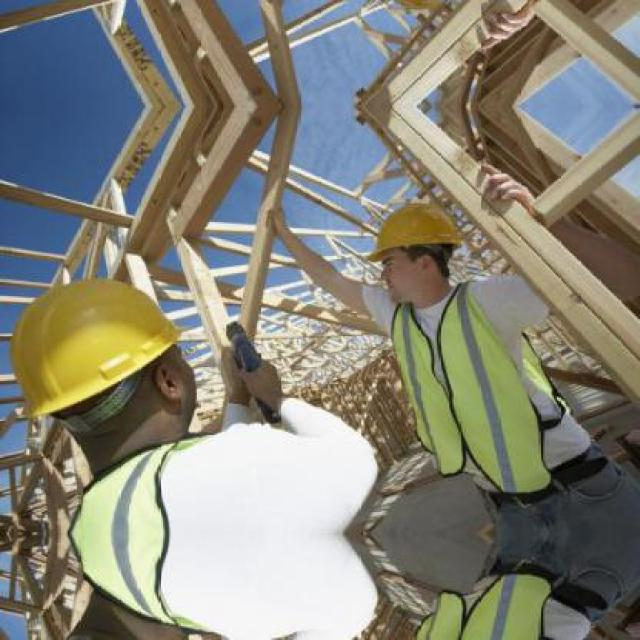helmet: (0, 254, 220, 477), (368, 186, 469, 303), (0, 589, 220, 637), (368, 0, 470, 28)
